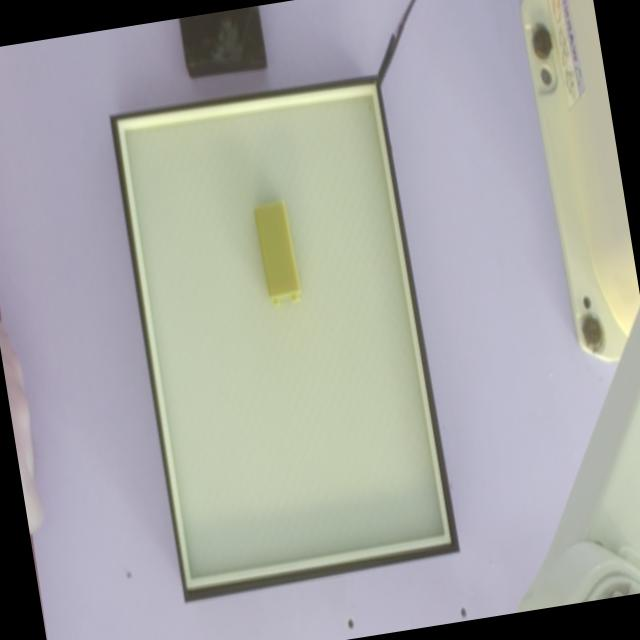bateria: (254, 199, 301, 306)
mesa: (109, 75, 460, 601)
